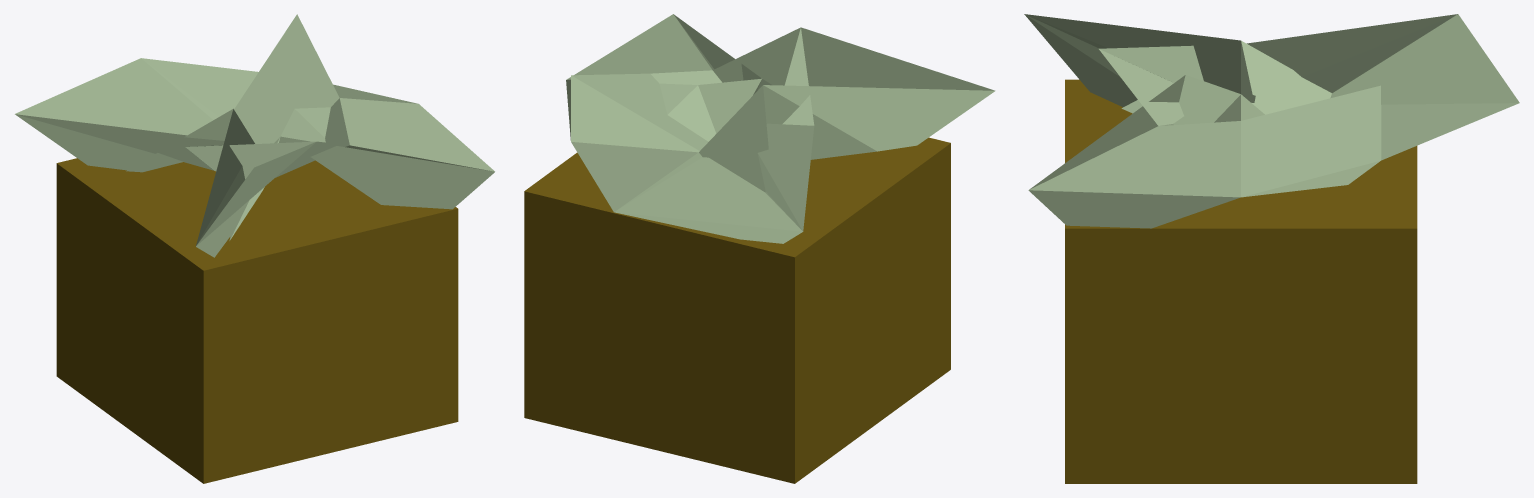
File: grass_winter_1.glb
3 renders of one model, left to right at view 1: azimuth 30°, elevation 25°; view 2: azimuth 150°, elevation 25°; view 3: azimuth 270°, elevation 25°, orthographic. The views are drawn at different scales.
Visible parts, largest first — view 1: Cube; view 2: Cube; view 3: Cube.
Boxes of the visible parts, x1,y1,x2,y2 form: Cube: [15, 14, 494, 483]; Cube: [524, 14, 995, 483]; Cube: [1024, 14, 1519, 483].
Bounding box in the file's own units: 2.46 × 2.39 × 2.82.
